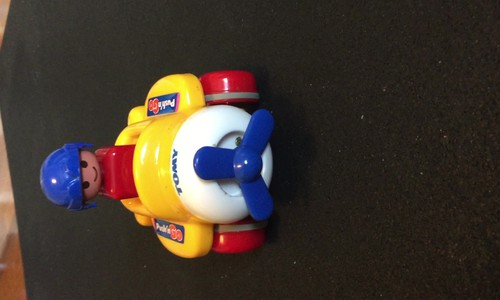toy: (37, 67, 282, 253)
